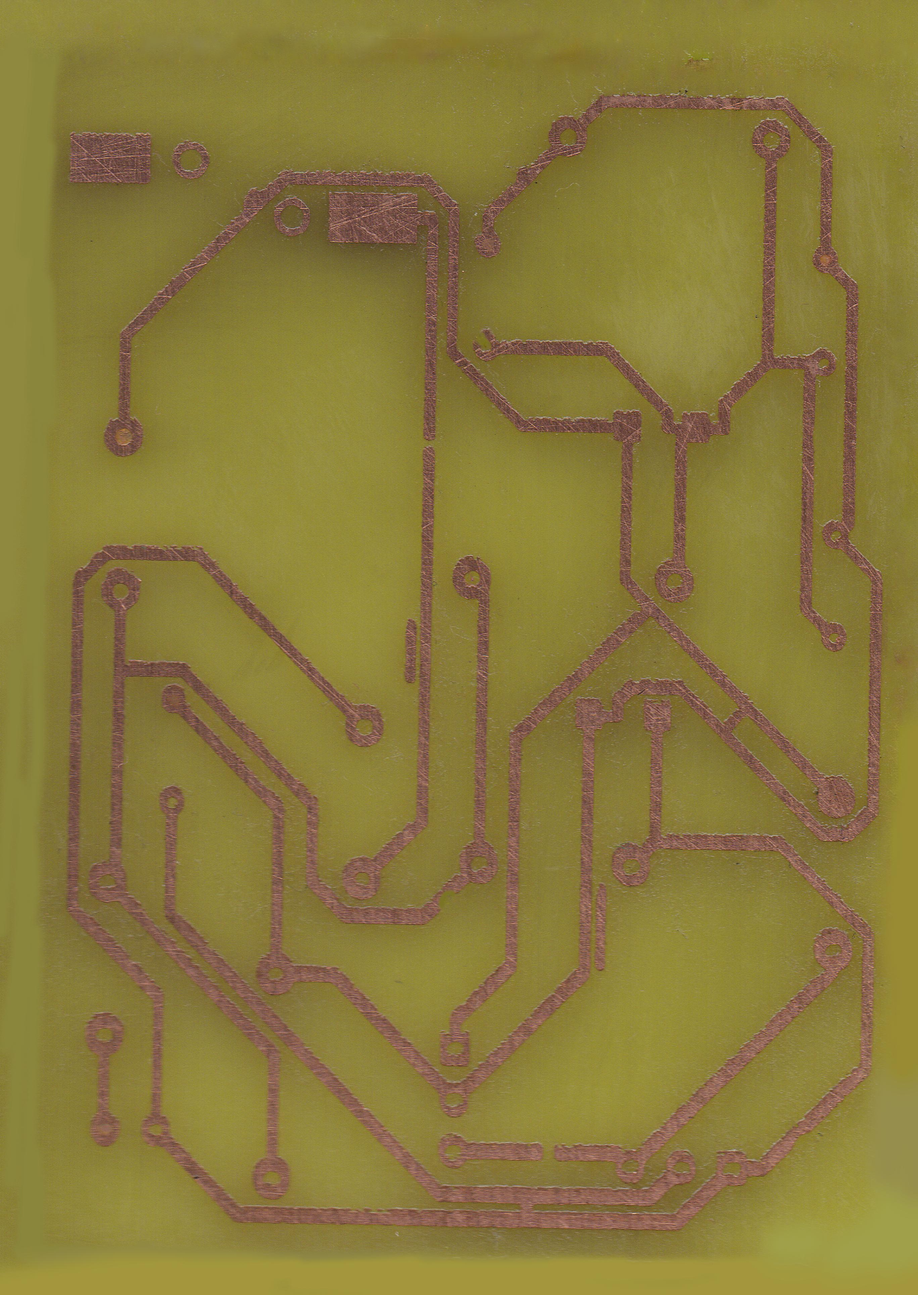missing_hole: (469, 328, 501, 365)
mouse_bite: (437, 889, 457, 912)
open_circuit: (534, 1136, 563, 1169), (420, 429, 438, 455)
short: (508, 1181, 540, 1235), (715, 693, 755, 734)
spur: (239, 182, 267, 218), (511, 160, 544, 184)
spurious_copper: (593, 884, 611, 970), (401, 614, 421, 688)
